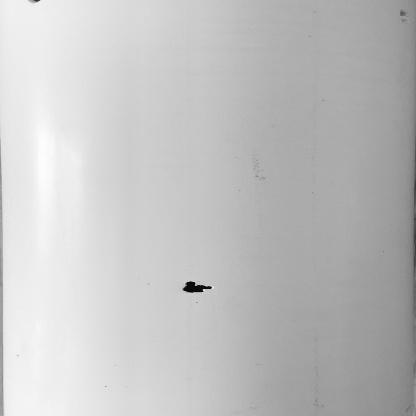kongdong: (171, 272, 225, 299)
